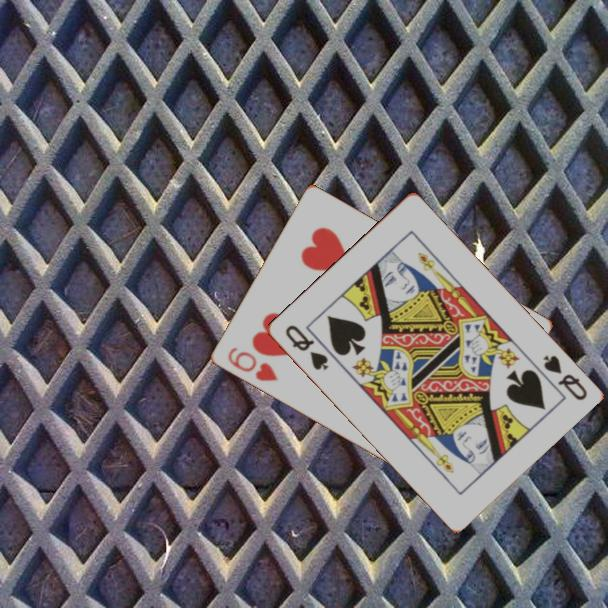h06: (224, 344, 280, 384)
s12: (539, 351, 589, 404), (281, 321, 331, 373)
